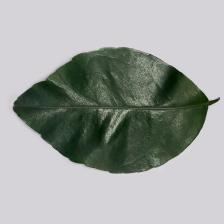healthy: (14, 46, 207, 175)
